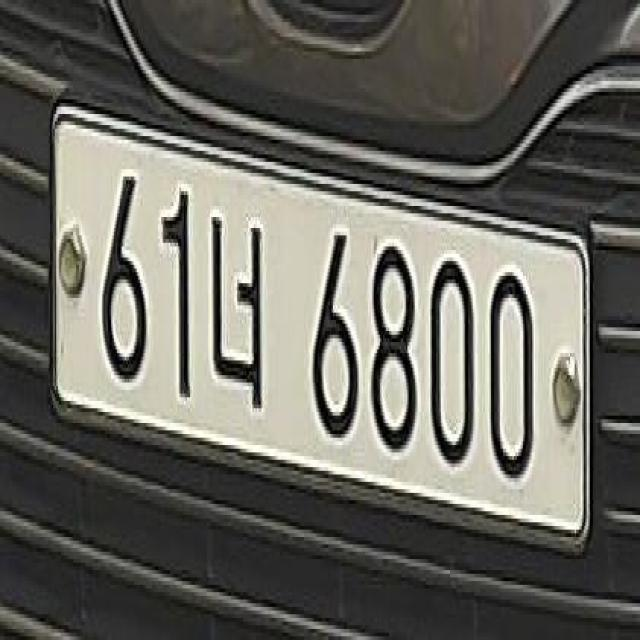0: (484, 264, 538, 488), (427, 247, 478, 475)
1: (154, 180, 203, 415)
6: (300, 212, 362, 448), (94, 152, 150, 391)
8: (366, 229, 424, 456)
license_plate: (43, 83, 599, 580)
neo: (204, 200, 274, 422)
